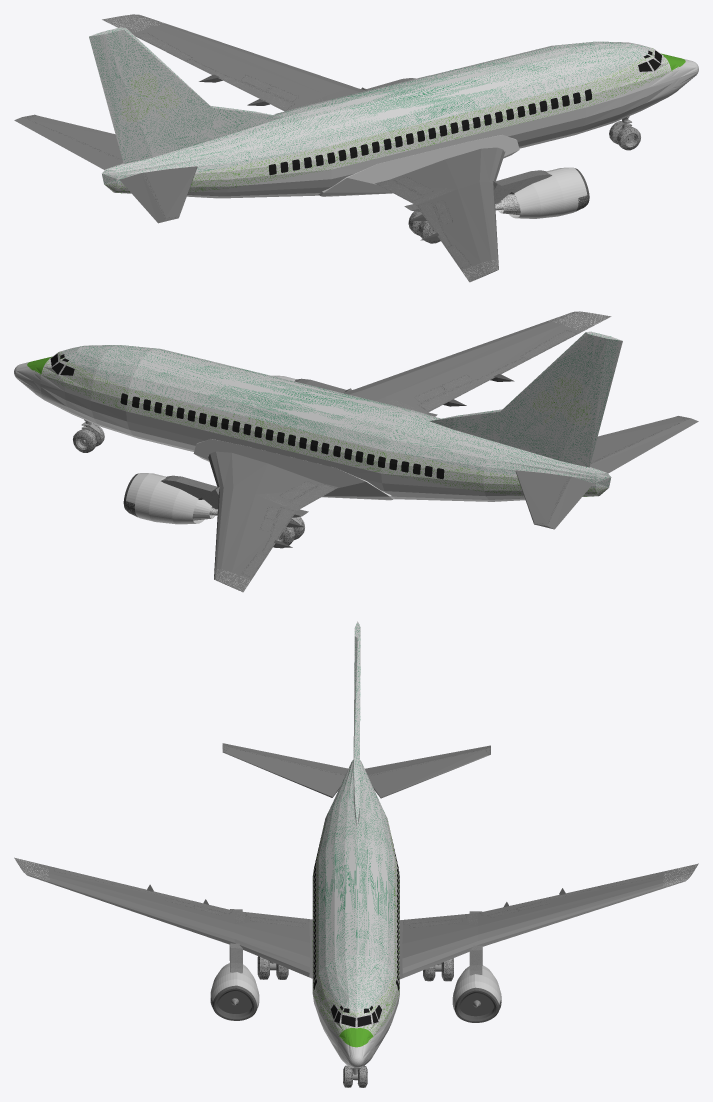
3 views of the same model, one above another, from view 1: azimuth 30°, elevation 25°; view 2: azimuth 150°, elevation 25°; view 3: azimuth 270°, elevation 25° (orthographic). The views are drawn at different scales.
Parts seen in each view (by area): view 1: mesh15_mesh15-geometry, mesh16_mesh16-geometry, mesh57_mesh57-geometry, mesh8_mesh8-geometry, mesh17_mesh17-geometry, mesh52_mesh52-geometry, mesh5_mesh5-geometry, mesh58_mesh58-geometry, mesh54_mesh54-geometry, mesh14_mesh14-geometry, mesh10_mesh10-geometry; view 2: mesh15_mesh15-geometry, mesh16_mesh16-geometry, mesh8_mesh8-geometry, mesh57_mesh57-geometry, mesh17_mesh17-geometry, mesh2_mesh2-geometry, mesh58_mesh58-geometry, mesh5_mesh5-geometry, mesh4_mesh4-geometry, mesh11_mesh11-geometry, mesh12_mesh12-geometry; view 3: mesh15_mesh15-geometry, mesh57_mesh57-geometry, mesh8_mesh8-geometry, mesh5_mesh5-geometry, mesh58_mesh58-geometry, mesh2_mesh2-geometry, mesh52_mesh52-geometry, mesh16_mesh16-geometry.
Boxes of the visible parts, bbox=[...] form: mesh15_mesh15-geometry: bbox=[102, 41, 698, 198]; mesh16_mesh16-geometry: bbox=[89, 27, 282, 163]; mesh57_mesh57-geometry: bbox=[375, 147, 505, 282]; mesh8_mesh8-geometry: bbox=[102, 14, 366, 111]; mesh17_mesh17-geometry: bbox=[318, 135, 519, 196]; mesh52_mesh52-geometry: bbox=[508, 167, 589, 218]; mesh5_mesh5-geometry: bbox=[14, 114, 123, 169]; mesh58_mesh58-geometry: bbox=[120, 166, 197, 223]; mesh54_mesh54-geometry: bbox=[404, 170, 551, 212]; mesh14_mesh14-geometry: bbox=[237, 150, 260, 194]; mesh10_mesh10-geometry: bbox=[596, 60, 619, 111]; mesh15_mesh15-geometry: bbox=[14, 345, 611, 501]; mesh16_mesh16-geometry: bbox=[429, 331, 622, 467]; mesh8_mesh8-geometry: bbox=[207, 451, 338, 592]; mesh57_mesh57-geometry: bbox=[342, 311, 611, 413]; mesh17_mesh17-geometry: bbox=[193, 439, 394, 500]; mesh2_mesh2-geometry: bbox=[123, 473, 204, 524]; mesh58_mesh58-geometry: bbox=[590, 416, 698, 473]; mesh5_mesh5-geometry: bbox=[515, 470, 593, 529]; mesh4_mesh4-geometry: bbox=[161, 475, 308, 517]; mesh11_mesh11-geometry: bbox=[452, 454, 475, 498]; mesh12_mesh12-geometry: bbox=[93, 364, 116, 415]; mesh15_mesh15-geometry: bbox=[312, 759, 399, 1067]; mesh57_mesh57-geometry: bbox=[14, 857, 312, 978]; mesh8_mesh8-geometry: bbox=[400, 863, 698, 979]; mesh5_mesh5-geometry: bbox=[365, 745, 490, 798]; mesh58_mesh58-geometry: bbox=[222, 743, 347, 797]; mesh2_mesh2-geometry: bbox=[452, 965, 501, 1022]; mesh52_mesh52-geometry: bbox=[210, 963, 259, 1020]; mesh16_mesh16-geometry: bbox=[353, 621, 360, 827].
Bounding box in the file's own units: 0.6697 × 0.2534 × 0.6981.
